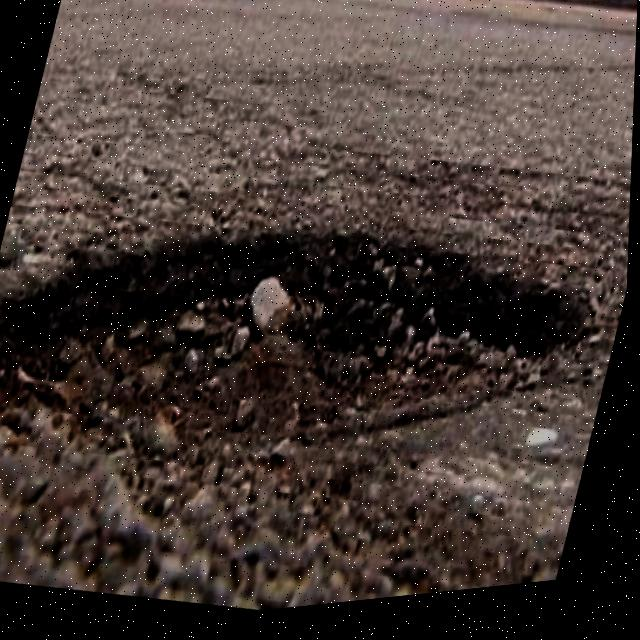Pothole: (0, 142, 611, 603)
